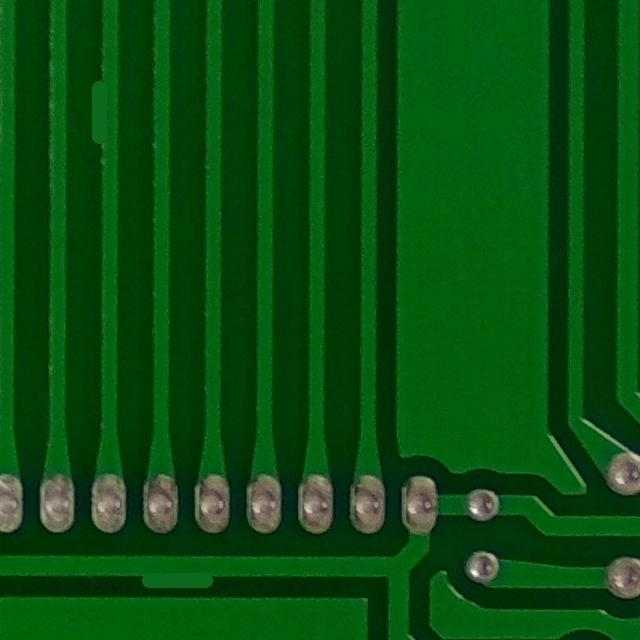spur: (69, 57, 140, 164), (118, 543, 233, 601)
